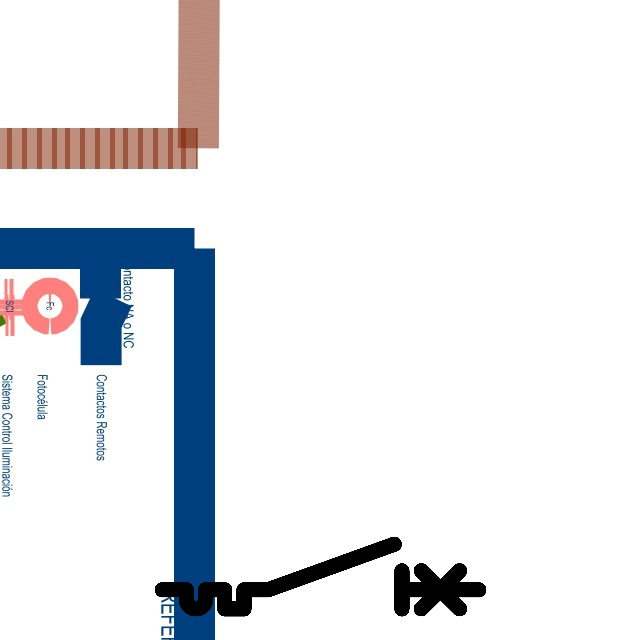interruptor_termomagnetico: (154, 536, 487, 617)
